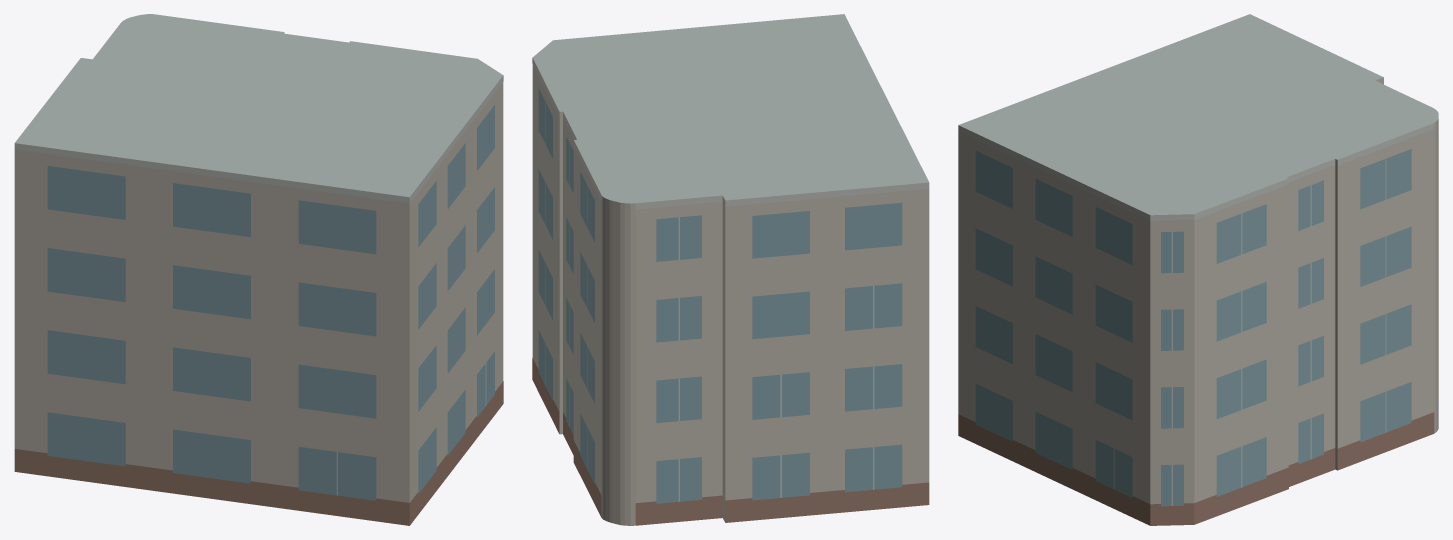
File: survey-upis-32727516.glb
3 views of the same model, side by side, from view 1: azimuth 30°, elevation 25°; view 2: azimuth 150°, elevation 25°; view 3: azimuth 270°, elevation 25° (orthographic). The views are drawn at different scales.
Parts seen in each view (by area): view 1: survey-upis-32727516.tmp; view 2: survey-upis-32727516.tmp; view 3: survey-upis-32727516.tmp.
Part boxes in pixels (bbox=[...]): survey-upis-32727516.tmp: bbox=[14, 14, 503, 525]; survey-upis-32727516.tmp: bbox=[532, 14, 929, 525]; survey-upis-32727516.tmp: bbox=[958, 14, 1438, 525].
Bounding box in the file's own units: 17.79 × 12.8 × 17.95.
